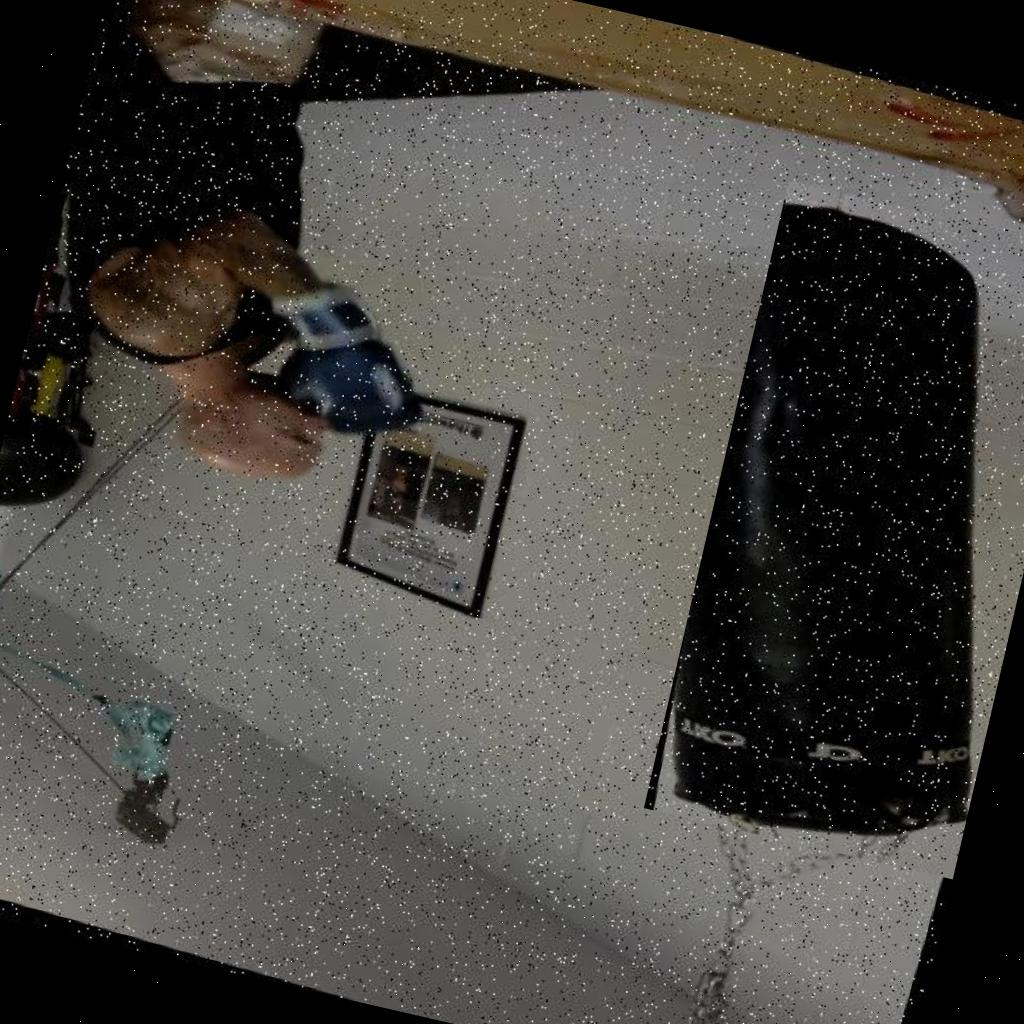bag: (643, 180, 1024, 879)
no punch: (23, 165, 490, 540)
